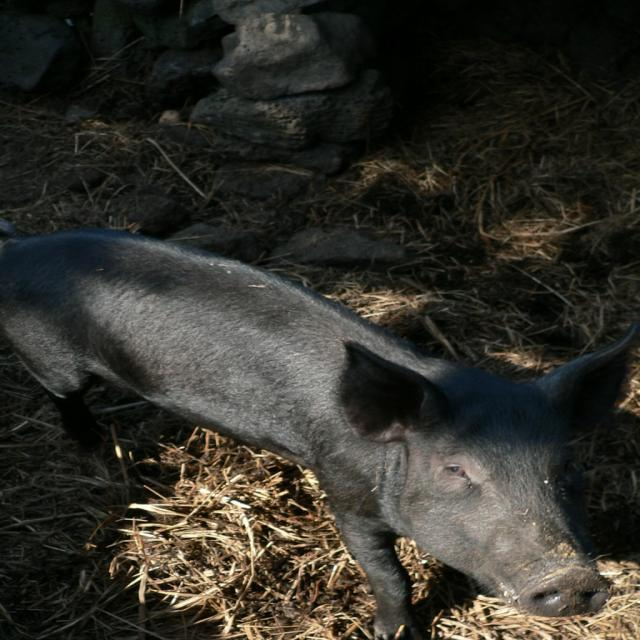Pig: (0, 224, 639, 639)
